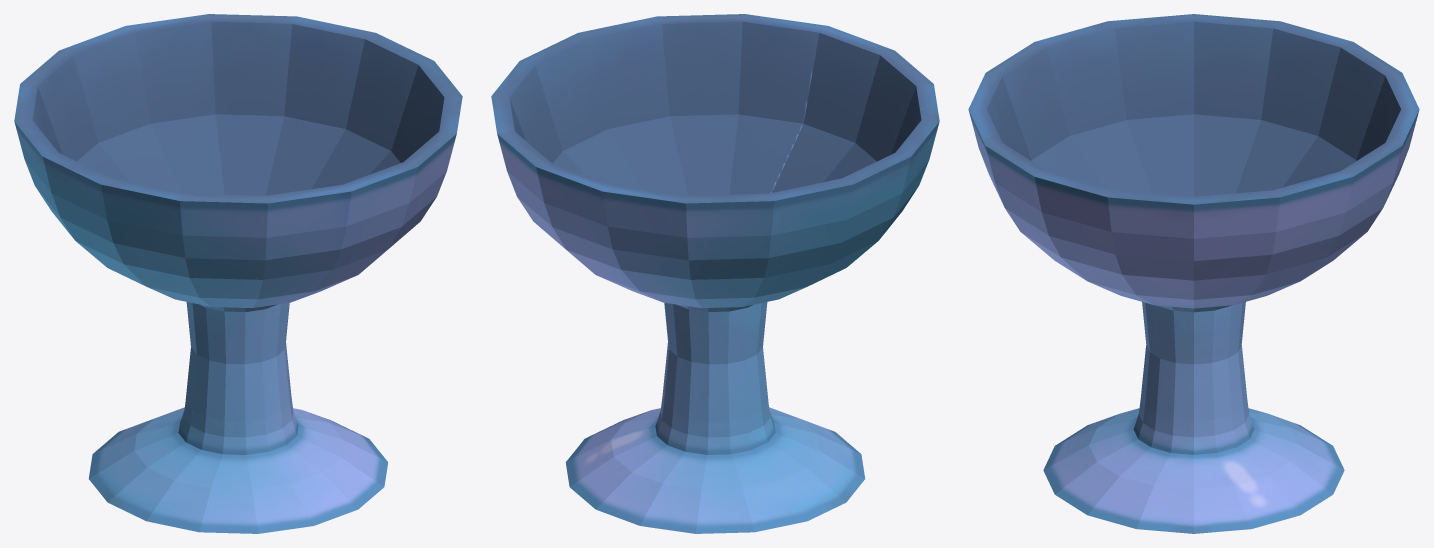
The model's file is cucurucho_4.fbx.
3 views of the same model, side by side, from view 1: azimuth 30°, elevation 25°; view 2: azimuth 150°, elevation 25°; view 3: azimuth 270°, elevation 25° (orthographic).
Visible parts, largest first — view 1: cucurucho4; view 2: cucurucho4; view 3: cucurucho4.
Part boxes in pixels (x1,y1,x2,y2): cucurucho4: (14,14,462,533); cucurucho4: (491,14,939,533); cucurucho4: (968,14,1419,533).
Size of the model in its own units: 229 by 202 by 229.
Materials: 1 (1 with a texture image).
